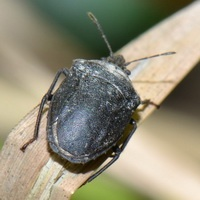insect: (25, 94, 158, 199), (45, 59, 121, 139)
